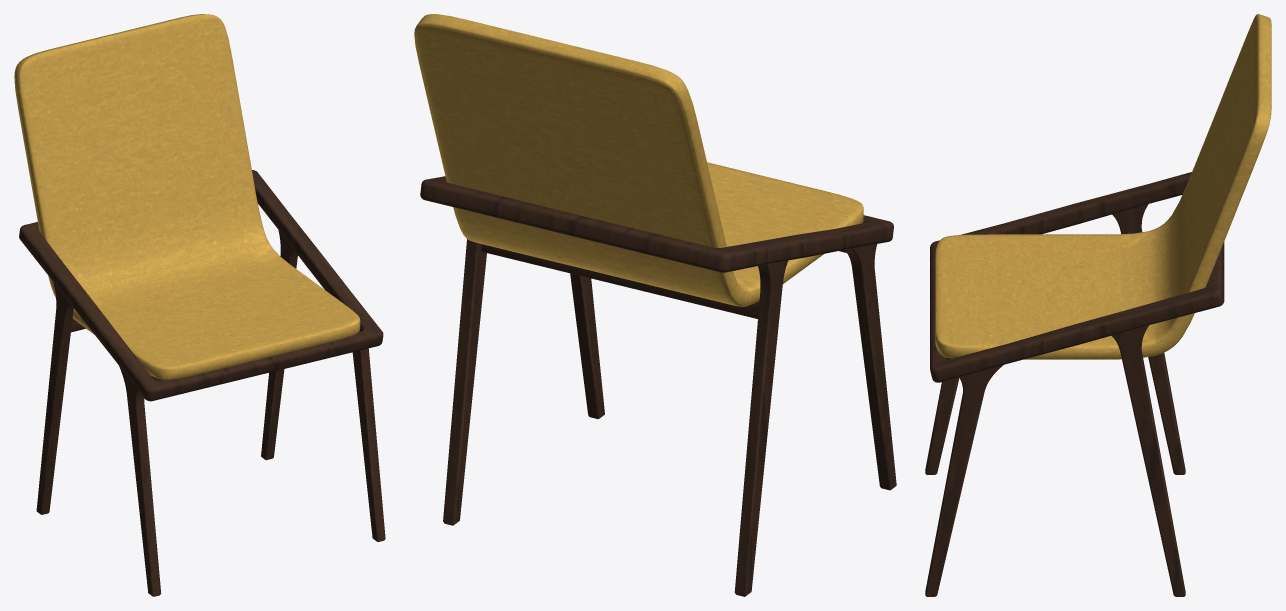
The model's file is scaun-sezlong.e74df95059.glb.
The picture shows the model from 3 angles, left to right: view 1: azimuth 30°, elevation 25°; view 2: azimuth 150°, elevation 25°; view 3: azimuth 270°, elevation 25°; orthographic projection. The views are drawn at different scales.
Parts seen in each view (by area): view 1: mykonos chair_mykonos chair_0; view 2: mykonos chair_mykonos chair_0; view 3: mykonos chair_mykonos chair_0.
Boxes of the visible parts, left/top/right/bottom form: mykonos chair_mykonos chair_0: left=14, top=14, right=385, bottom=596; mykonos chair_mykonos chair_0: left=414, top=14, right=896, bottom=596; mykonos chair_mykonos chair_0: left=925, top=14, right=1271, bottom=596.
Bounding box in the file's own units: 0.5029 × 0.8598 × 0.5706.
Materials: 2 (2 with a texture image).
